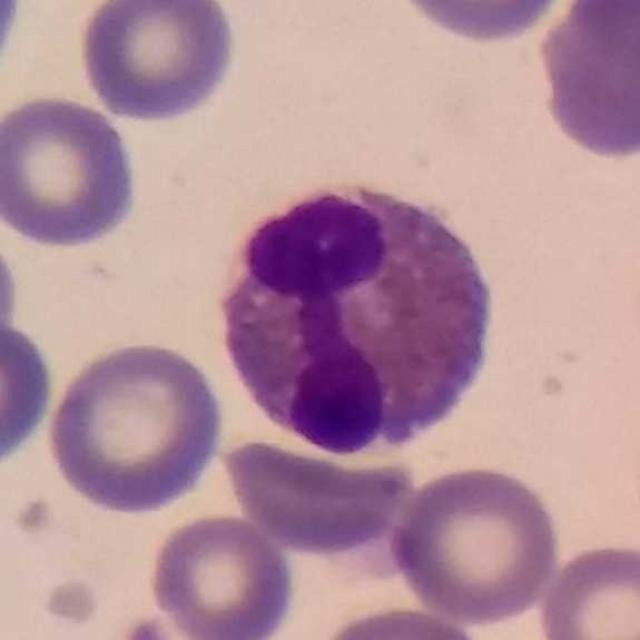Eosinophil: (200, 167, 510, 471)
Platelets: (119, 614, 173, 640)
RBC: (42, 335, 230, 518), (387, 459, 566, 626), (217, 434, 417, 557), (0, 90, 142, 251), (75, 0, 242, 126), (143, 510, 300, 640), (532, 0, 640, 164), (534, 537, 639, 640), (0, 310, 59, 477), (386, 0, 582, 46), (307, 603, 494, 640), (0, 223, 21, 367)
